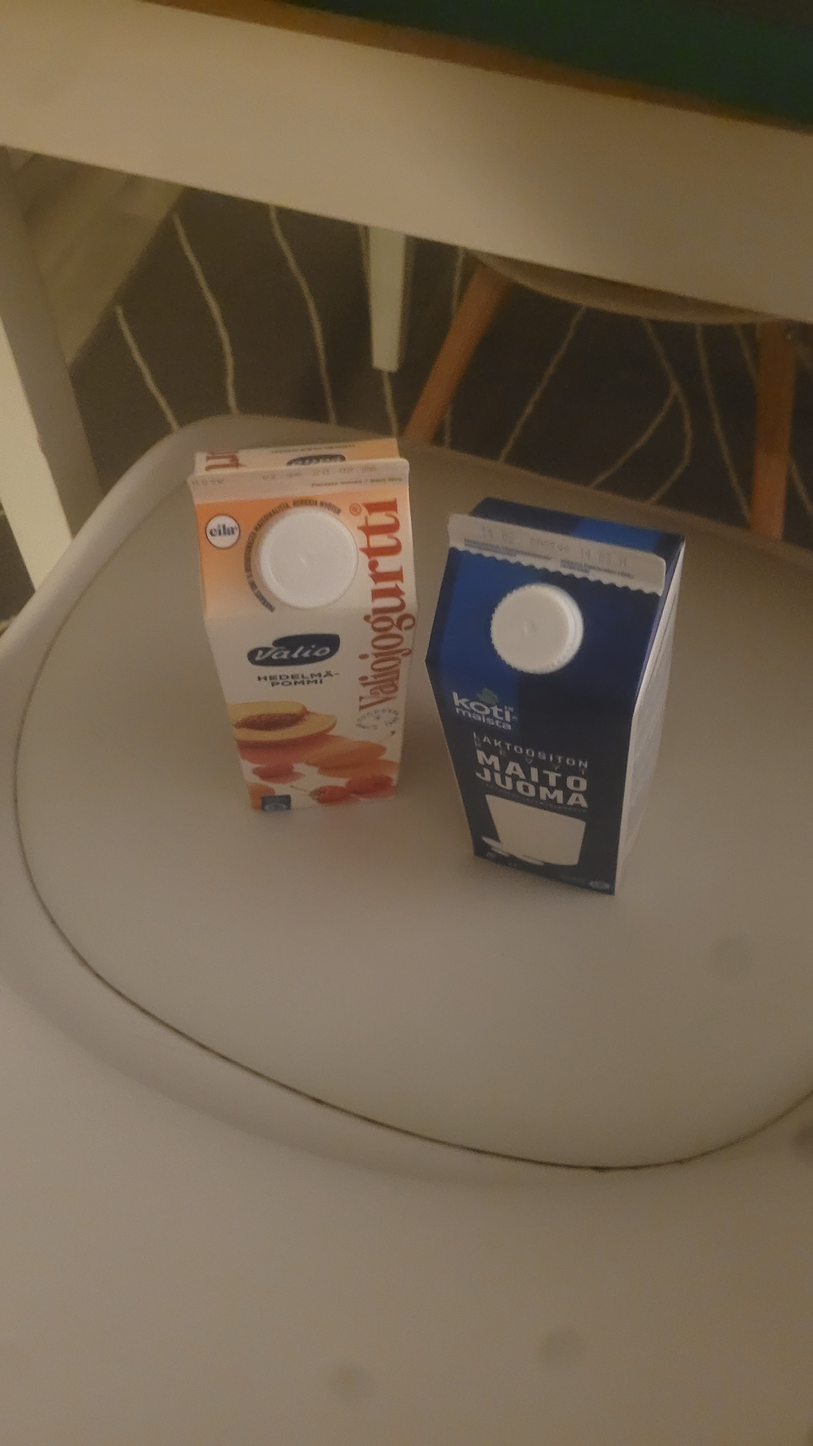Dryckeskartong: (427, 498, 687, 897), (186, 439, 419, 815)
